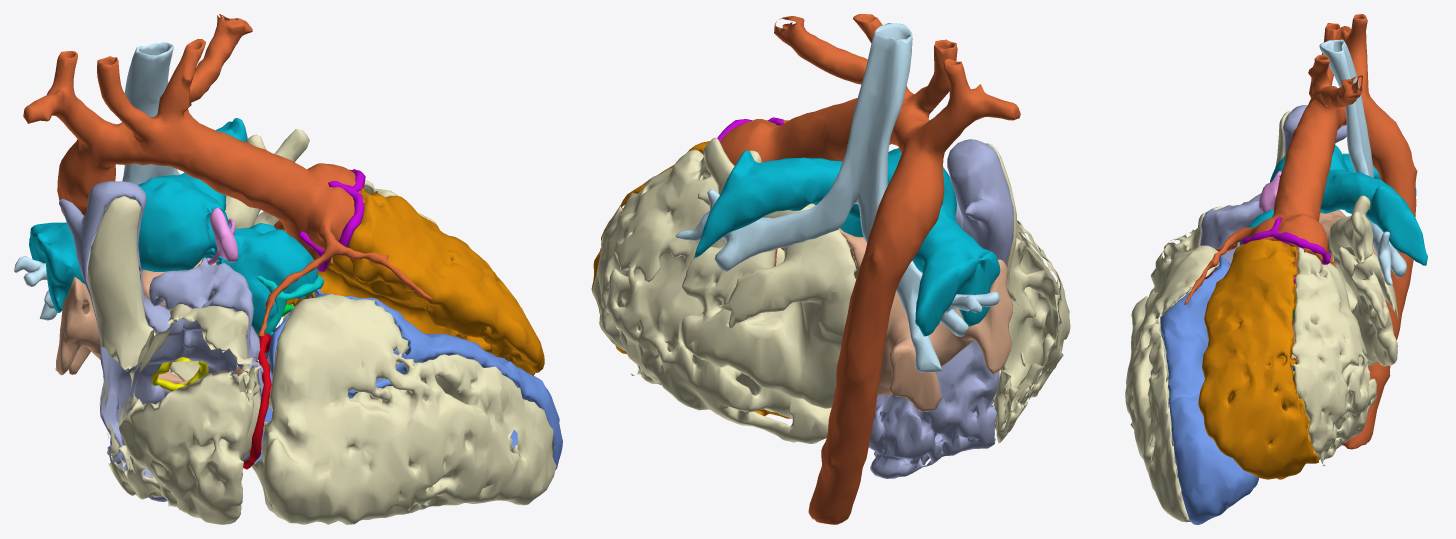
Rendered from {S,L,L}, ccTGA, subPVSD, ASD.gltf.
3 views of the same model, side by side, from view 1: azimuth 30°, elevation 25°; view 2: azimuth 150°, elevation 25°; view 3: azimuth 270°, elevation 25° (orthographic). The views are drawn at different scales.
Visible parts, largest first — view 1: resected part, aorta, right ventricle, pulmonary artery, right atrium, left ventricle, trachea, left atrium, aortic valve, mitral valve, pa band, pulmonary valve (+1 smaller); view 2: resected part, aorta, trachea, right atrium, pulmonary artery, left atrium, right ventricle; view 3: resected part, right ventricle, aorta, left ventricle, pulmonary artery, trachea, right atrium, aortic valve, left atrium, pa band.
Boxes of the visible parts, <box> form: resected part: <box>87,129,556,524</box>; aorta: <box>23,14,433,336</box>; right ventricle: <box>267,186,544,375</box>; pulmonary artery: <box>29,118,317,336</box>; right atrium: <box>59,181,265,501</box>; left ventricle: <box>254,289,562,470</box>; trachea: <box>14,42,179,320</box>; left atrium: <box>55,258,243,383</box>; aortic valve: <box>298,169,365,271</box>; mitral valve: <box>243,333,271,469</box>; pa band: <box>206,207,238,265</box>; pulmonary valve: <box>256,276,324,337</box>; resected part: <box>592,137,1070,443</box>; aorta: <box>720,14,1020,524</box>; trachea: <box>675,23,1000,372</box>; right atrium: <box>868,139,1013,478</box>; pulmonary artery: <box>694,148,1000,336</box>; left atrium: <box>839,228,1012,411</box>; right ventricle: <box>591,120,791,418</box>; resected part: <box>1125,110,1398,522</box>; right ventricle: <box>1198,239,1319,479</box>; aorta: <box>1184,14,1417,449</box>; left ventricle: <box>1160,255,1258,524</box>; pulmonary artery: <box>1239,145,1427,265</box>; trachea: <box>1319,39,1406,285</box>; right atrium: <box>1200,105,1346,271</box>; aortic valve: <box>1241,217,1330,283</box>; left atrium: <box>1291,209,1377,359</box>; pa band: <box>1258,171,1281,212</box>.
Size of the model in its own units: 100 by 99.9 by 75.68.
